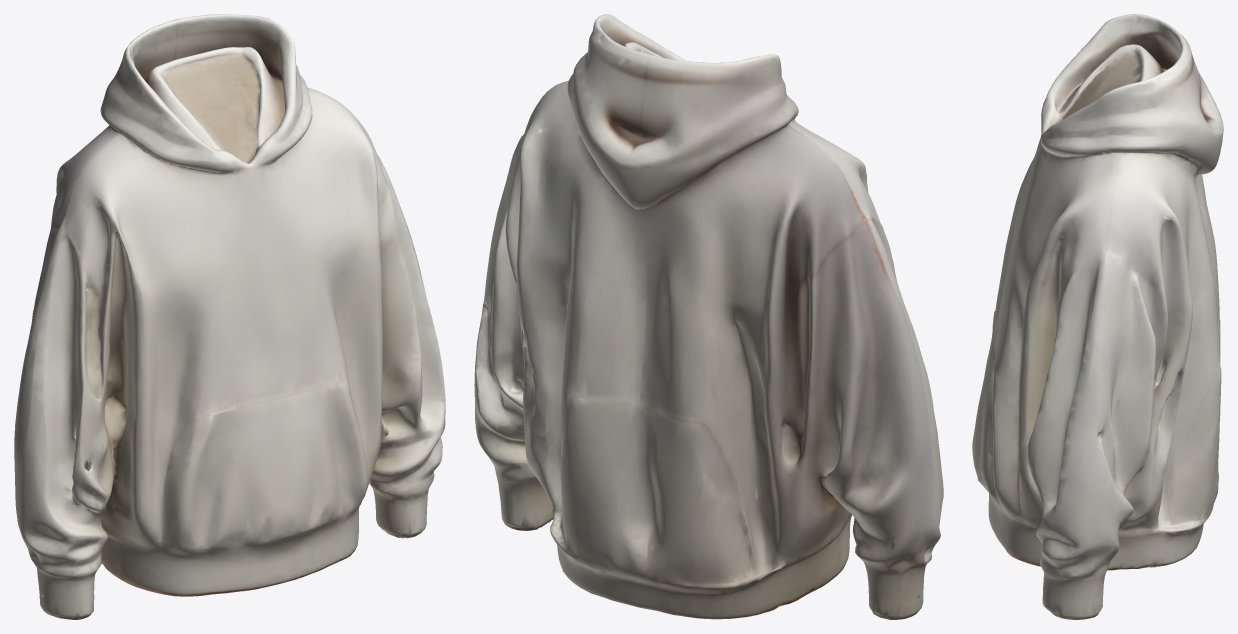
Rendered from hoodie.glb.
The picture shows the model from 3 angles, left to right: view 1: azimuth 30°, elevation 25°; view 2: azimuth 150°, elevation 25°; view 3: azimuth 270°, elevation 25°; orthographic projection. The views are drawn at different scales.
Visible parts, largest first — view 1: geometry_0; view 2: geometry_0; view 3: geometry_0.
Part boxes in pixels (x1,y1,x2,y2): geometry_0: (14,14,445,619); geometry_0: (474,14,943,619); geometry_0: (972,14,1223,619).
Bounding box in the file's own units: 0.8574 × 0.9921 × 0.4646.
Materials: 1 (1 with a texture image).
